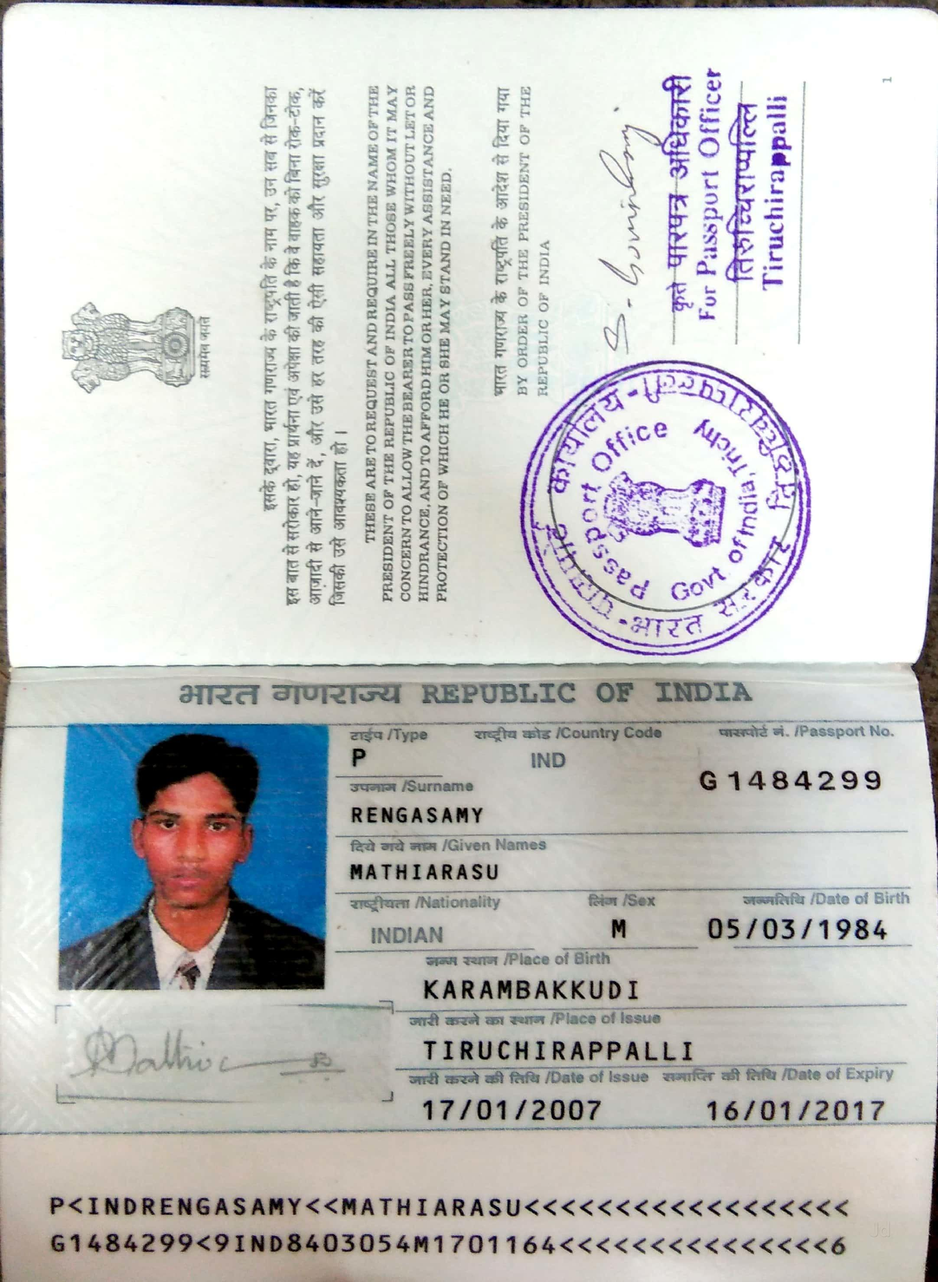DOB: (692, 909, 894, 950)
Surname: (343, 802, 493, 835)
country_code: (516, 745, 574, 776)
date_of_expiry: (695, 1089, 906, 1134)
date_of_issue: (413, 1090, 615, 1133)
details: (36, 1182, 870, 1268)
name: (339, 854, 511, 888)
nationality: (357, 916, 451, 949)
passport_no: (687, 755, 894, 806)
photo: (66, 724, 324, 985)
place_of_birth: (418, 969, 657, 1006)
place_of_issue: (411, 1028, 700, 1067)
sex: (600, 910, 637, 949)
sign: (64, 1011, 357, 1097)
type: (342, 744, 384, 773)
